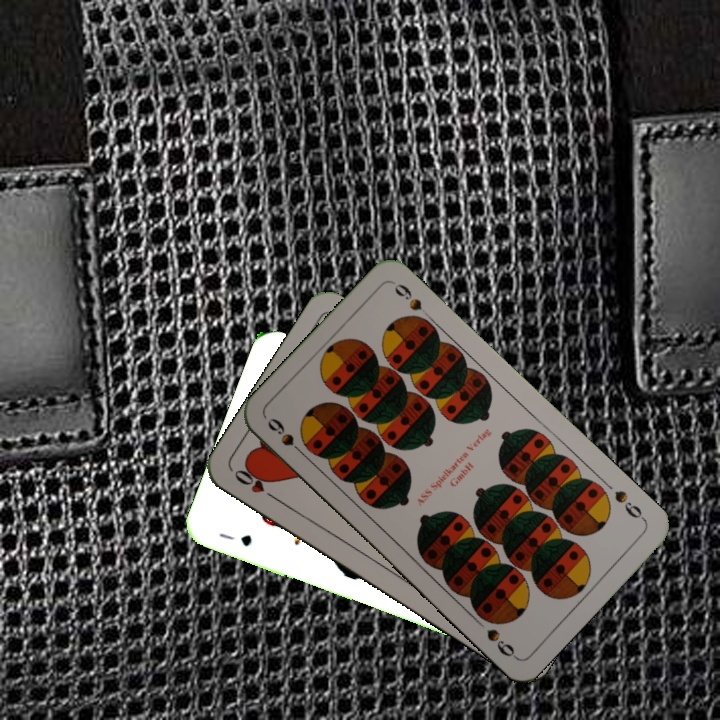GU: (215, 528, 255, 549)
HO: (230, 463, 282, 504)
S9: (263, 413, 309, 460), (610, 486, 649, 524)
